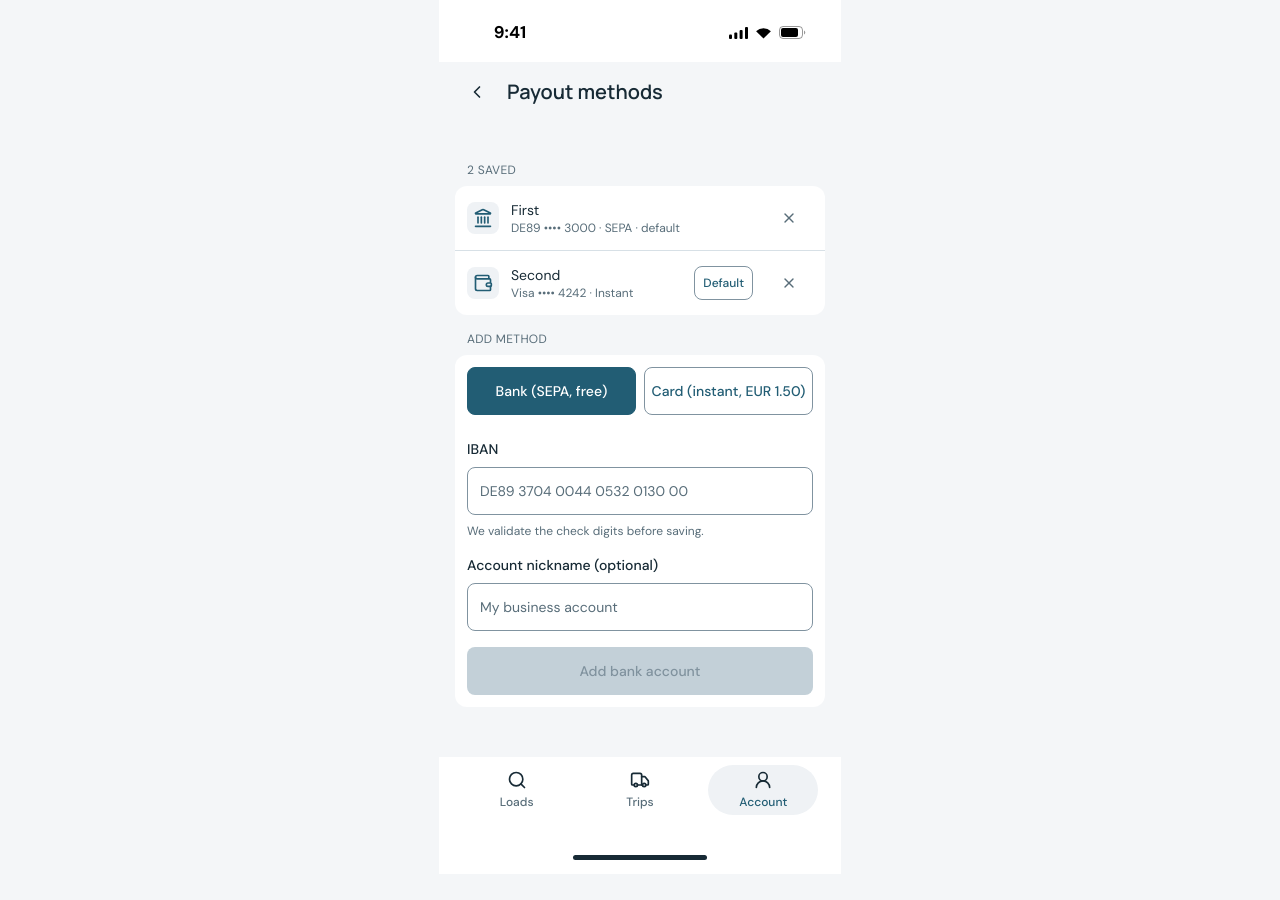
Test: warns that another method becomes the default when the default is removed
The width and height of the screenshot is (1280, 900).
Expected: the heading "2 saved" is shown, top-left (467, 162), bottom-right (516, 178)
Click the button named "Remove First" at (789, 218), box top-left (765, 194), bottom-right (813, 242)
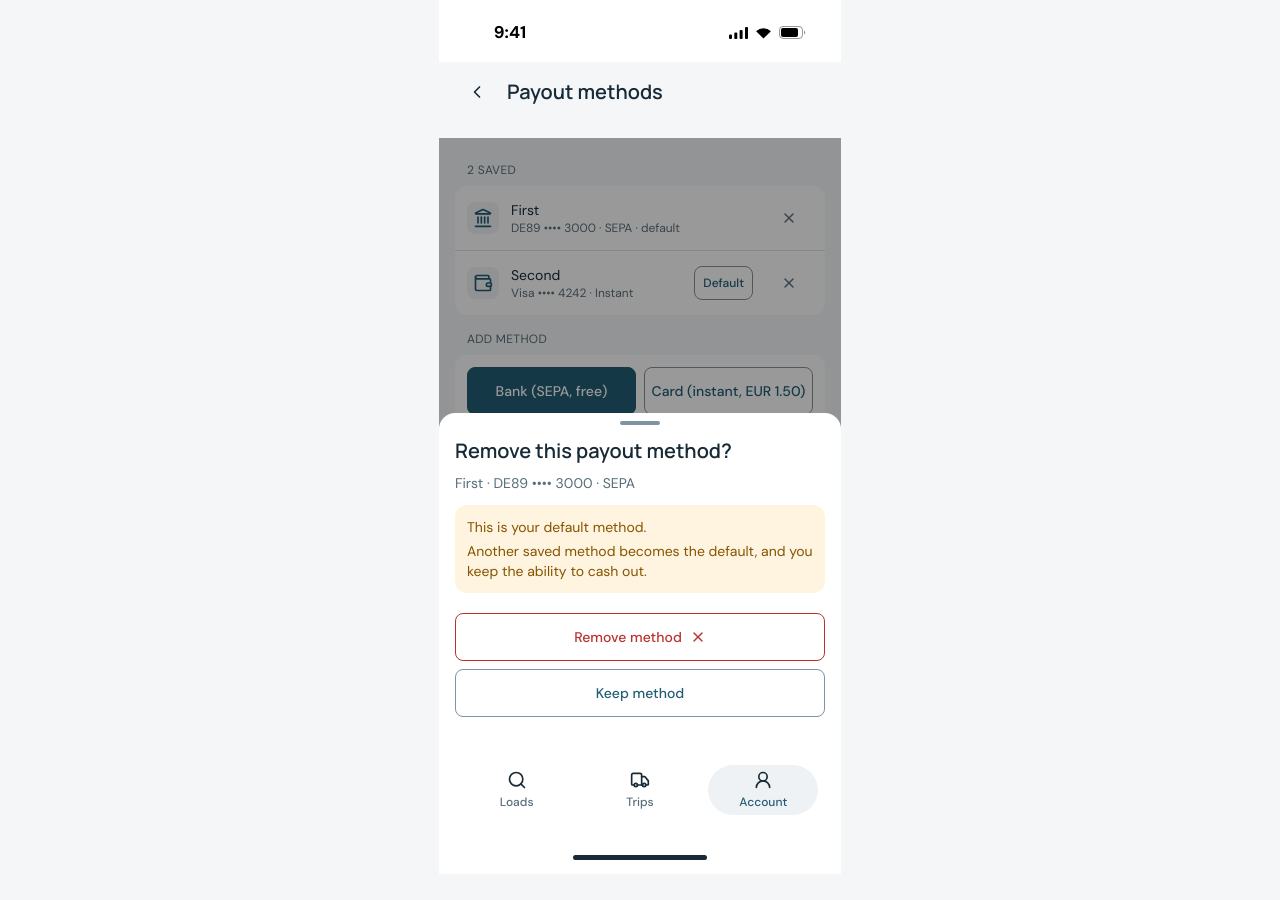
Expected: the heading "Remove this payout method?" is shown, top-left (455, 437), bottom-right (732, 464)
Expected: the text "This is your default method." is shown, top-left (467, 518), bottom-right (646, 536)
Expected: the text "Another saved method becomes the default" is shown, top-left (467, 542), bottom-right (813, 580)
